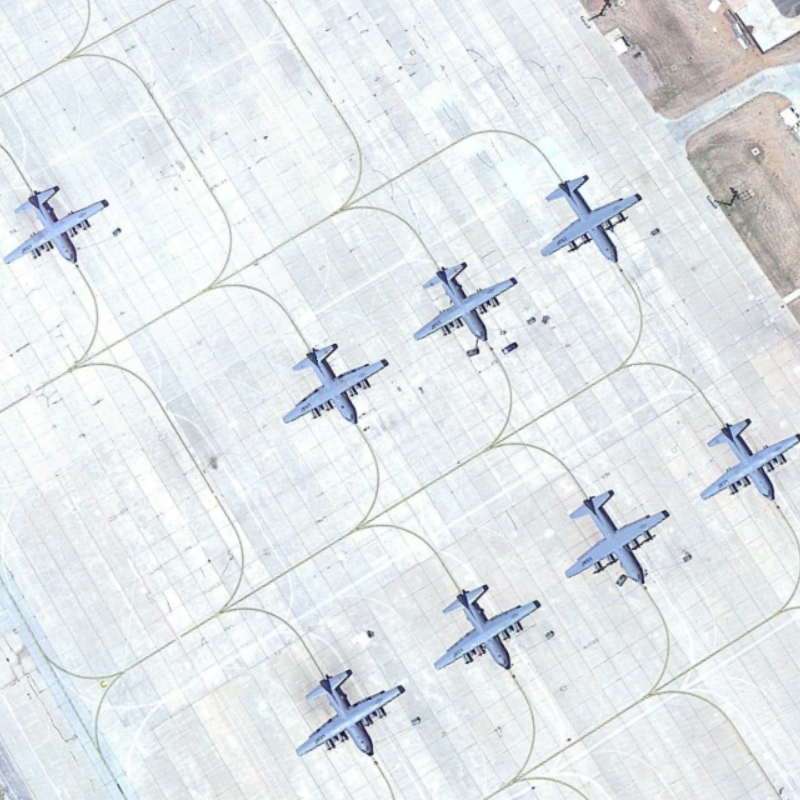A2: (558, 483, 682, 589), (1, 174, 119, 278), (433, 578, 548, 680), (288, 664, 410, 760), (278, 338, 398, 433), (409, 256, 524, 352), (695, 410, 800, 510), (540, 173, 645, 271)
